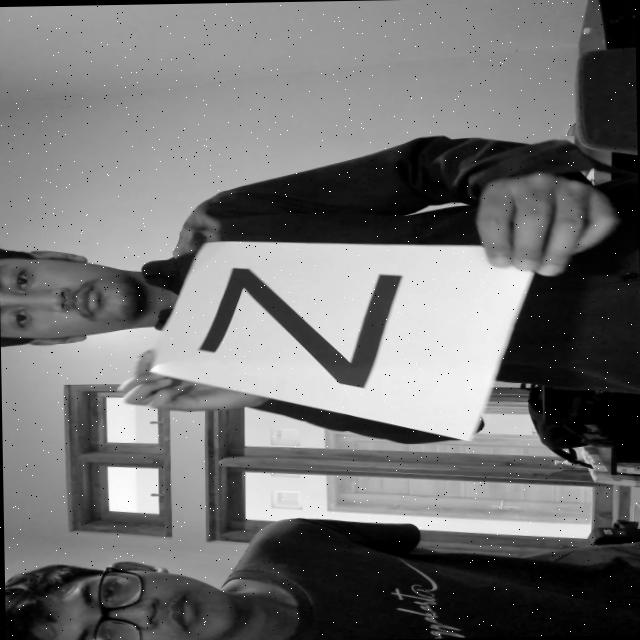z: (172, 245, 434, 410)
